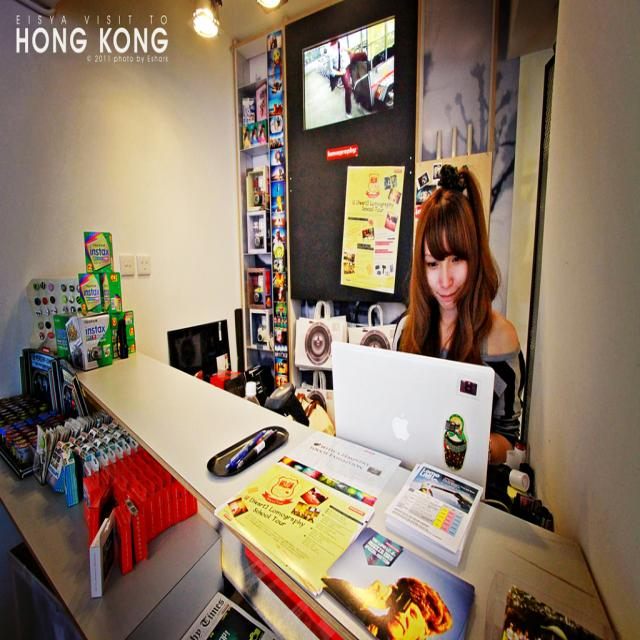desk: (76, 356, 615, 640)
laptop: (332, 342, 492, 490)
person: (392, 166, 527, 467)
